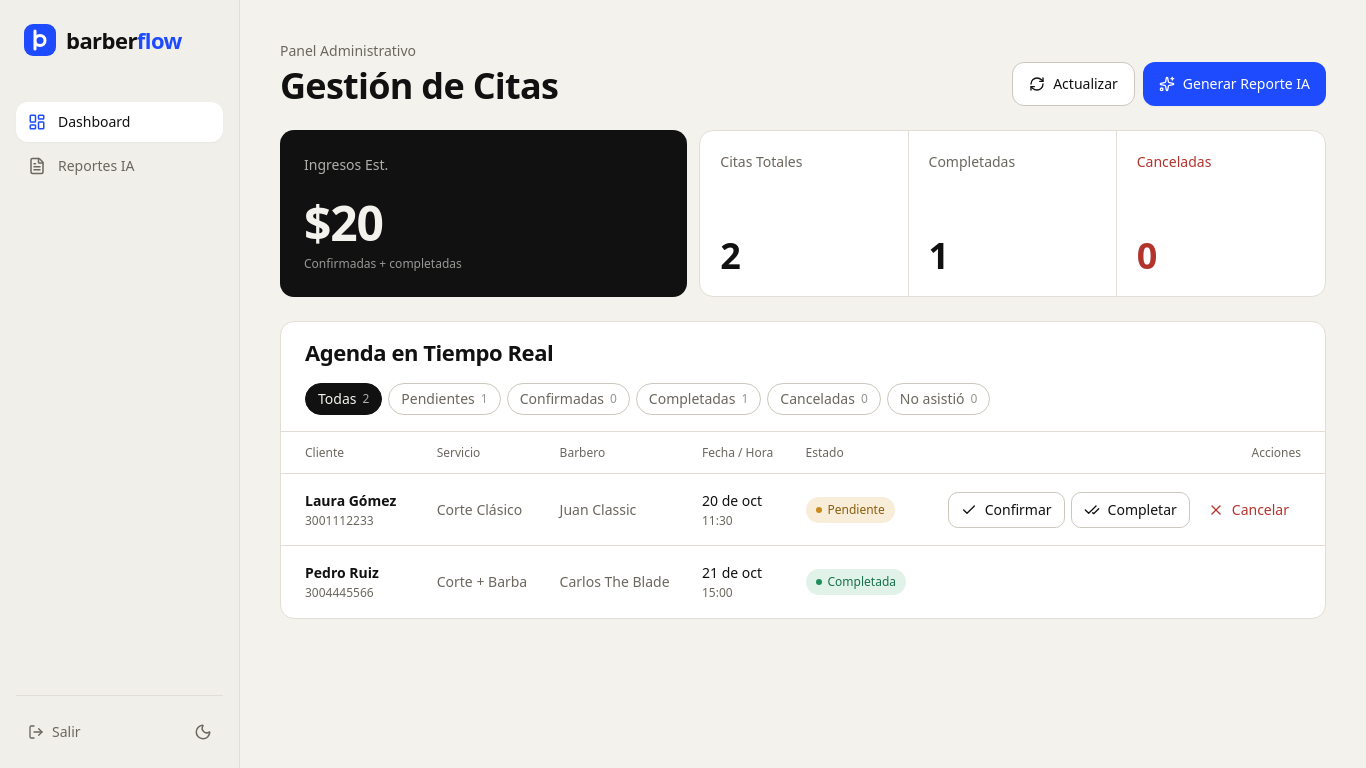
Test: admin › confirma una cita pendiente
Expected: the text "Laura Gómez" is shown, [305,491,396,510]
Click the button "Confirmar". click: (1006, 510)
box: [948,492,1065,528]
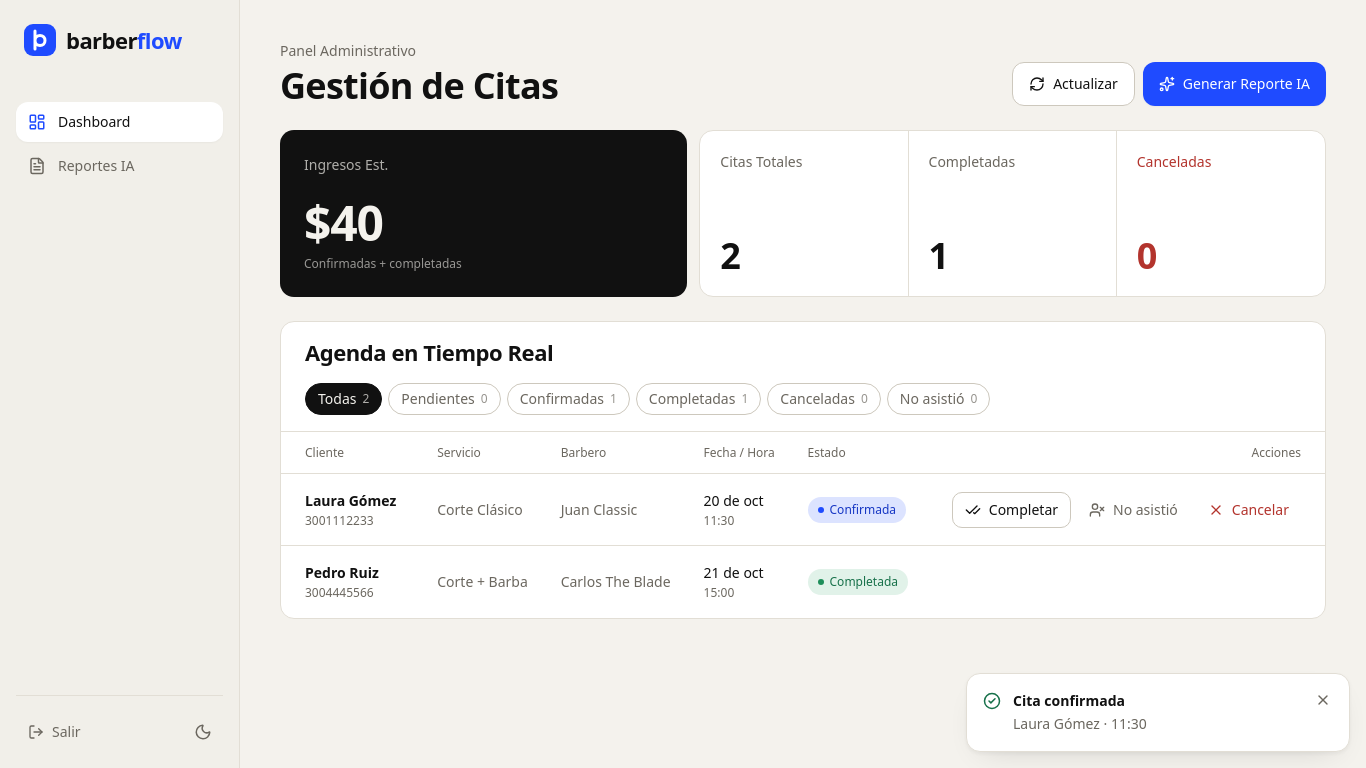
Expected: the text "Cita confirmada" is shown, [1013,691,1125,710]
